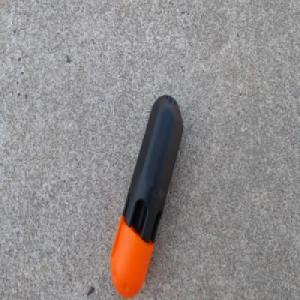PlasticPart: (109, 93, 184, 300)
